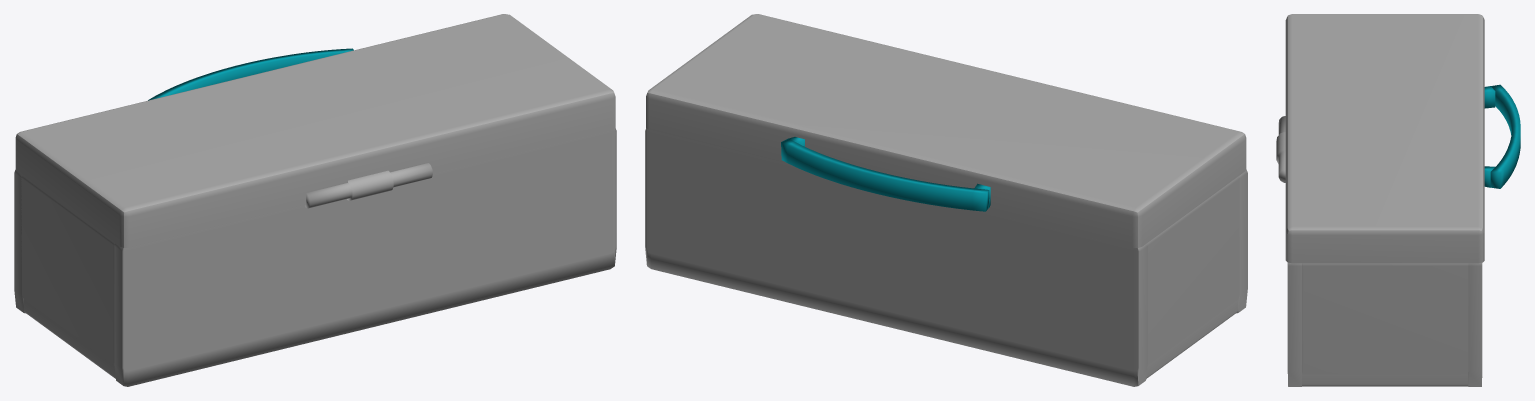
File: Medkit.fbx
3 renders of one model, left to right at view 1: azimuth 30°, elevation 25°; view 2: azimuth 150°, elevation 25°; view 3: azimuth 270°, elevation 25°, orthographic. The views are drawn at different scales.
Visible parts, largest first — view 1: polySurface3; view 2: polySurface3; view 3: polySurface3.
Boxes of the visible parts, left/top/right/bottom form: polySurface3: left=14, top=14, right=616, bottom=386; polySurface3: left=645, top=14, right=1247, bottom=386; polySurface3: left=1276, top=14, right=1520, bottom=386.
Size of the model in its own units: 1.9 by 0.6538 by 0.9029.
